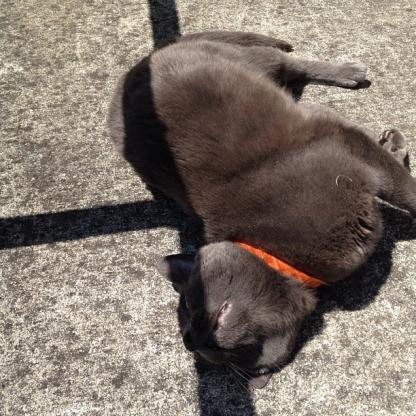Target: (98, 23, 416, 388)
